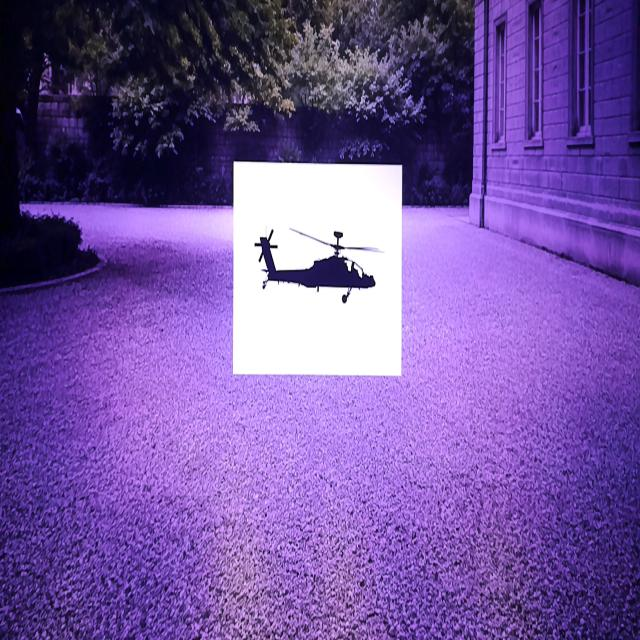Apache friendly: (255, 229, 382, 302)
